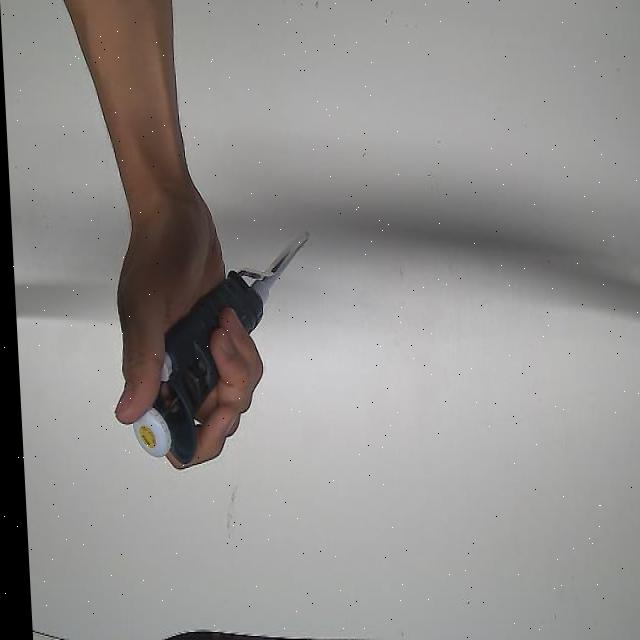Single Channel Pipettor: (117, 227, 320, 465)
